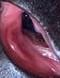eye_membrane: (0, 2, 59, 78)
